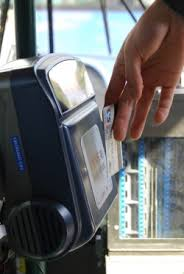terminal: (2, 53, 121, 263)
